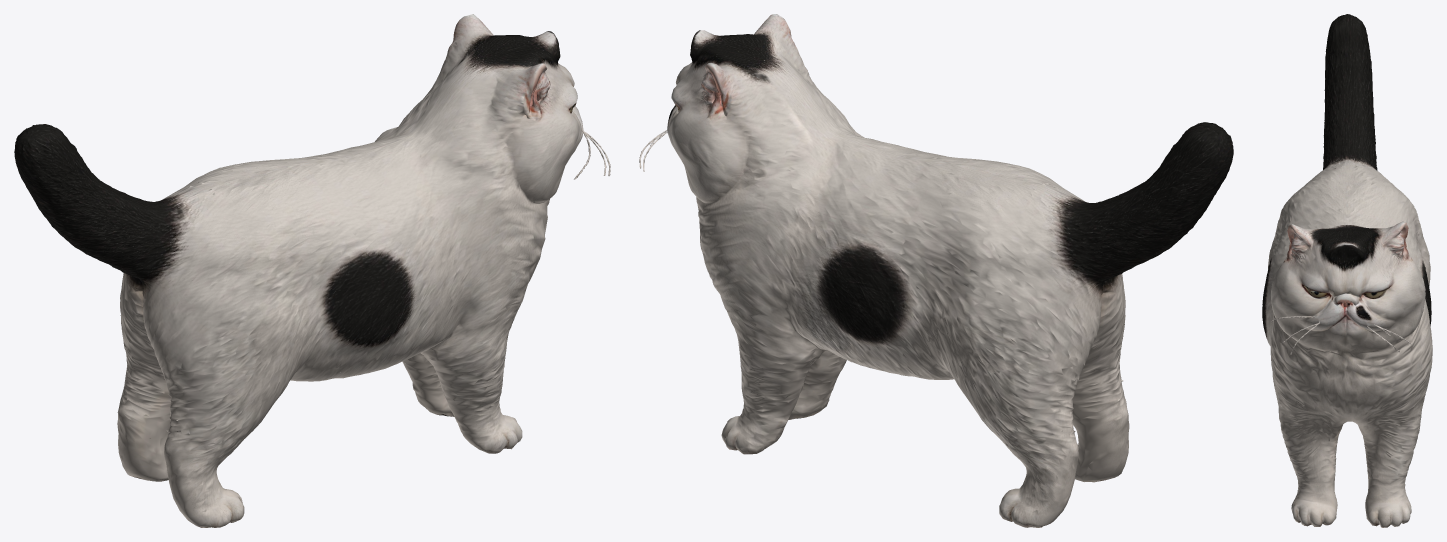
The model's file is OJINEKO.glb.
3 renders of one model, left to right at view 1: azimuth 30°, elevation 25°; view 2: azimuth 150°, elevation 25°; view 3: azimuth 270°, elevation 25°, orthographic. The views are drawn at different scales.
Visible parts, largest first — view 1: tripo_node_26896545-21b7-464c-9e72-6ab543120349; view 2: tripo_node_26896545-21b7-464c-9e72-6ab543120349; view 3: tripo_node_26896545-21b7-464c-9e72-6ab543120349.
Part boxes in pixels (<box>): tripo_node_26896545-21b7-464c-9e72-6ab543120349: <box>14,14,610,527</box>; tripo_node_26896545-21b7-464c-9e72-6ab543120349: <box>639,14,1233,527</box>; tripo_node_26896545-21b7-464c-9e72-6ab543120349: <box>1262,14,1432,527</box>.
Bounding box in the file's own units: 1.44 × 0.9988 × 0.4638.
1 material, 1 textured.
